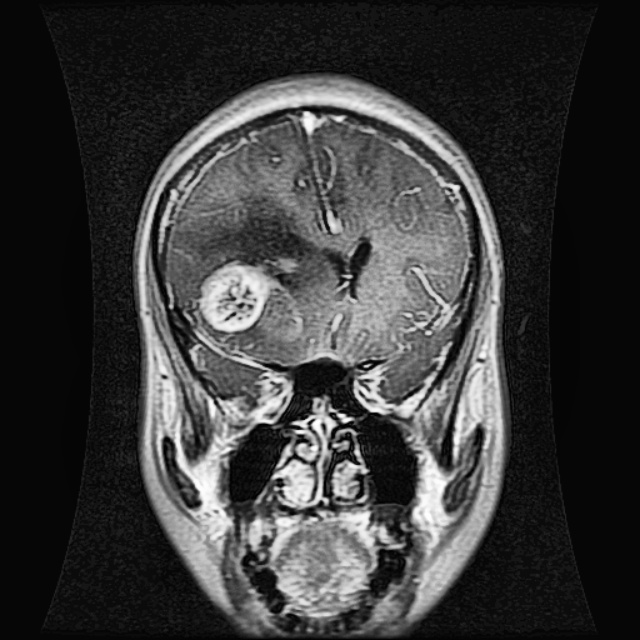Meningioma: (185, 248, 303, 342)
